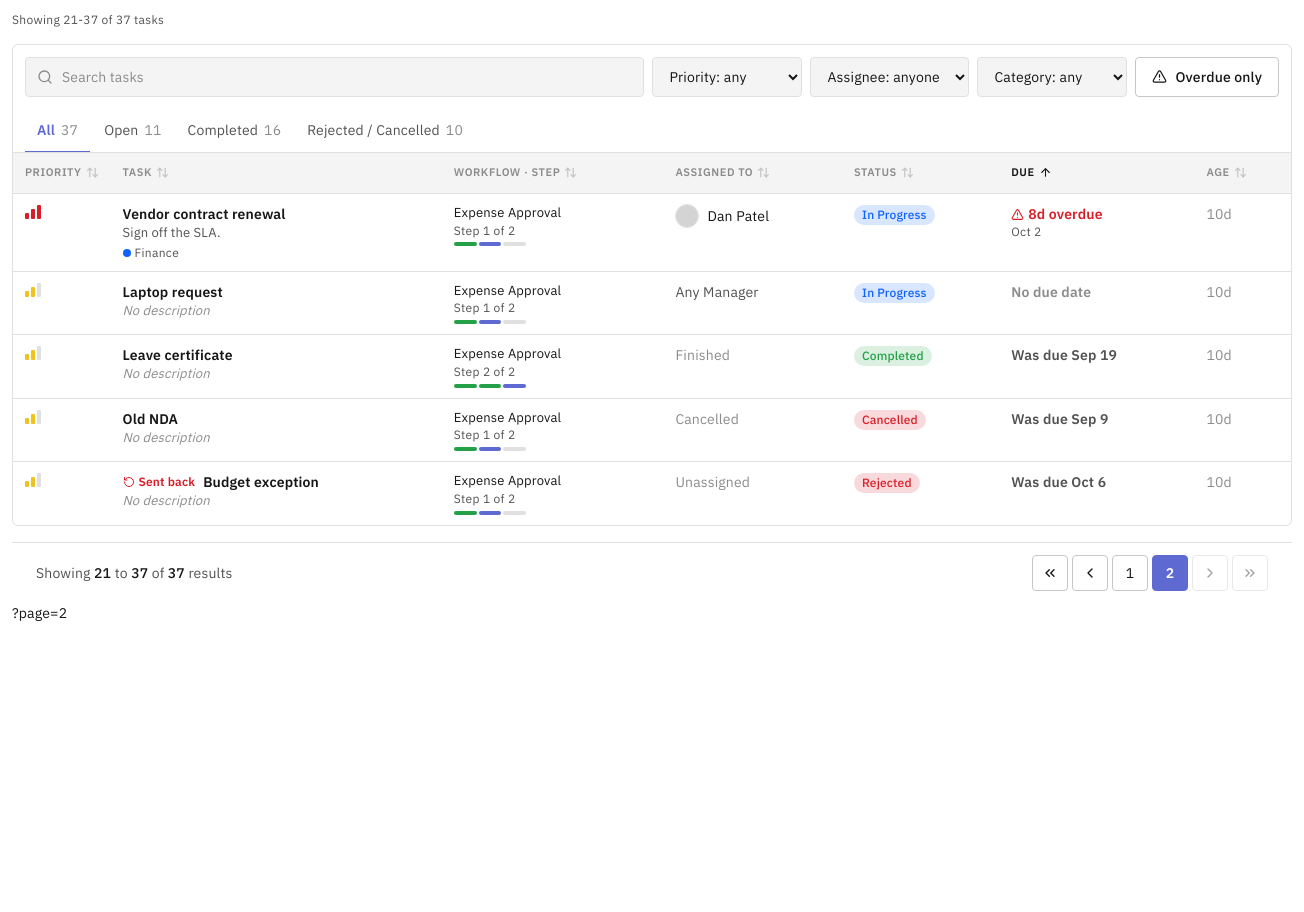
Test: AllTasks (table) › TC-A06: search is debounced by 300 ms, trimmed, and resets the page
Expected: the button "Vendor contract renewal" is shown, x1=122 y1=204 x2=286 y2=224
Type "con" into the search field labelled "Search tasks" at (335, 77), box x1=25 y1=57 x2=644 y2=97
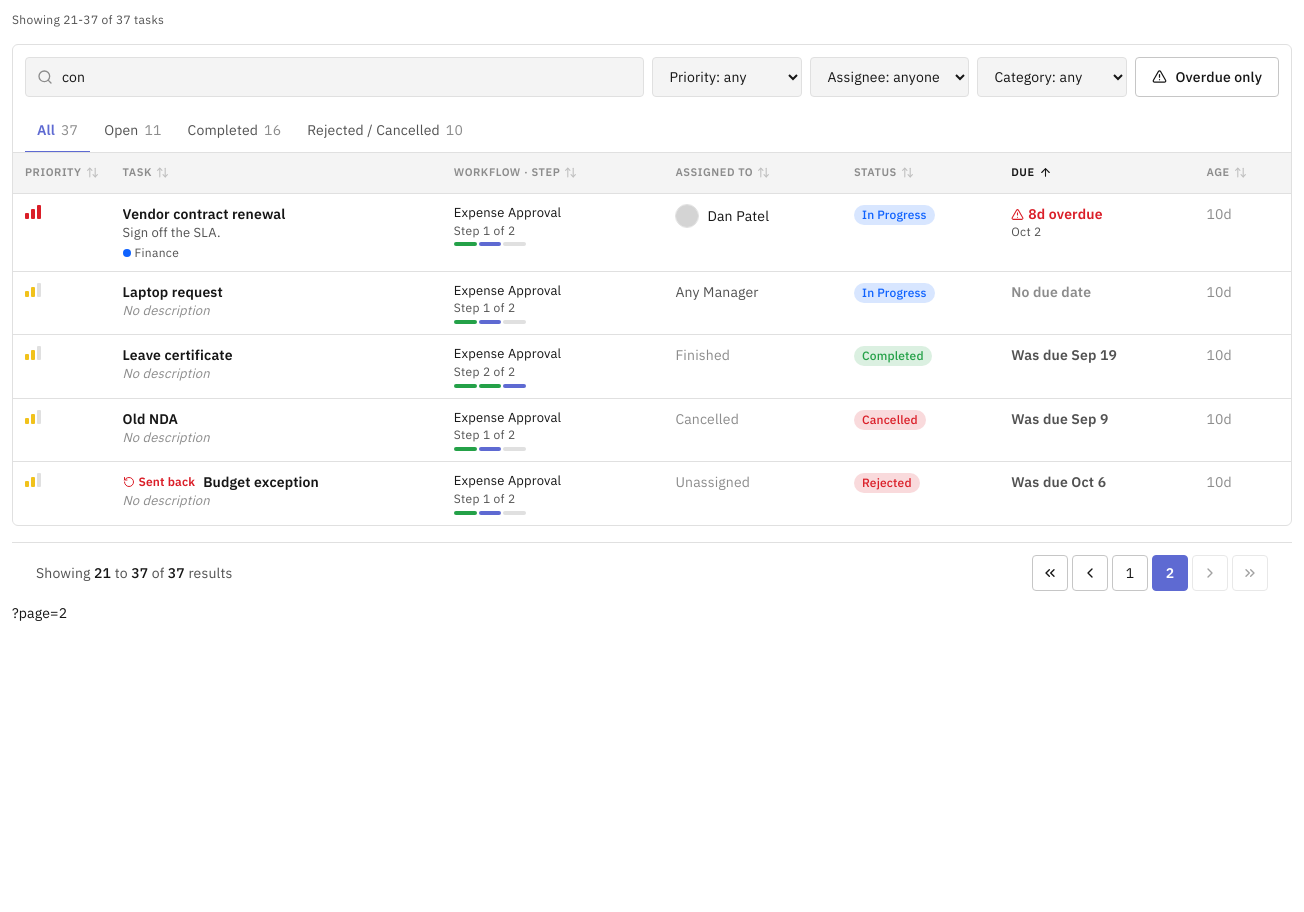
Replace the text in the search field named "Search tasks" with " contract " at (335, 77), box x1=25 y1=57 x2=644 y2=97
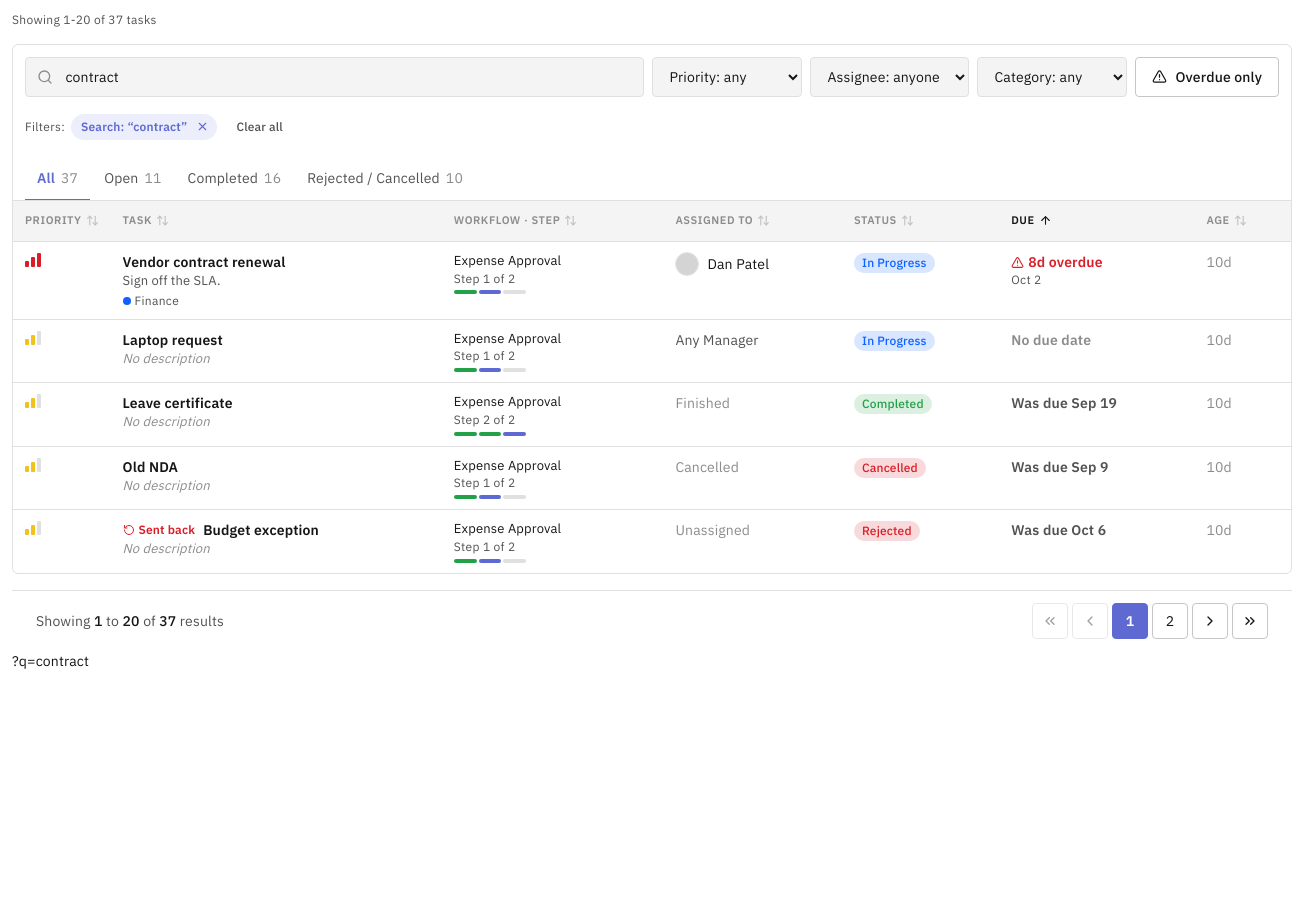
Result: the text "Search: “contract”" is shown at x1=71 y1=114 x2=218 y2=140
